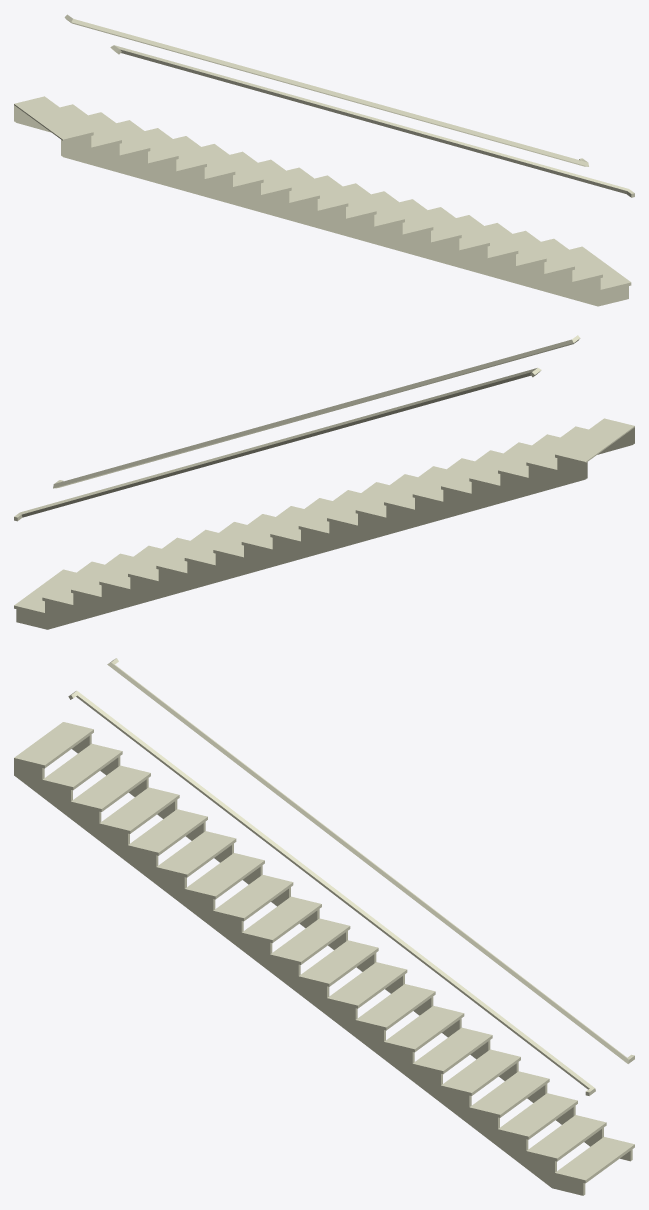
3 views of the same model, one above another, from view 1: azimuth 30°, elevation 25°; view 2: azimuth 150°, elevation 25°; view 3: azimuth 330°, elevation 25° (orthographic).
Visible parts, largest first — view 1: Model, Group1, Group2, G_6_12_step20, G_6_12_step1, G_6_12_step11, G_6_12_step18, G_6_12_step8, G_6_12_step5, G_6_12_step15, G_6_12_step12, G_6_12_step19 (+11 smaller); view 2: Model, Group2, Group1, G_6_12_step20, G_6_12_step6, G_6_12_step17, G_6_12_step2, G_6_12_step4, G_6_12_step7, G_6_12_step9, G_6_12_step15, G_6_12_step19 (+11 smaller); view 3: Model, Group1, Group2, G_6_12_step2, G_6_12_step10, G_6_12_step11, G_6_12_step13, G_6_12_step9, G_6_12_step15, G_6_12_step1, G_6_12_step3, G_6_12_step4 (+11 smaller).
Boxes of the visible parts, x1=… form: Model: x1=14, y1=105, x2=628, y2=306; Group1: x1=110, y1=45, x2=634, y2=197; Group2: x1=64, y1=14, x2=588, y2=166; G_6_12_step20: x1=14, y1=96, x2=93, y2=140; G_6_12_step1: x1=569, y1=246, x2=631, y2=290; G_6_12_step11: x1=286, y1=167, x2=348, y2=211; G_6_12_step18: x1=88, y1=112, x2=150, y2=156; G_6_12_step8: x1=371, y1=191, x2=433, y2=235; G_6_12_step5: x1=456, y1=215, x2=518, y2=259; G_6_12_step15: x1=173, y1=136, x2=235, y2=180; G_6_12_step12: x1=258, y1=159, x2=319, y2=203; G_6_12_step19: x1=60, y1=104, x2=121, y2=148; Model: x1=16, y1=427, x2=634, y2=629; Group2: x1=14, y1=368, x2=541, y2=521; Group1: x1=53, y1=335, x2=580, y2=488; G_6_12_step20: x1=555, y1=418, x2=634, y2=462; G_6_12_step6: x1=156, y1=529, x2=218, y2=574; G_6_12_step17: x1=469, y1=442, x2=531, y2=486; G_6_12_step2: x1=42, y1=561, x2=104, y2=605; G_6_12_step4: x1=99, y1=545, x2=161, y2=590; G_6_12_step7: x1=184, y1=522, x2=246, y2=566; G_6_12_step9: x1=241, y1=506, x2=303, y2=550; G_6_12_step15: x1=412, y1=458, x2=474, y2=502; G_6_12_step19: x1=526, y1=426, x2=588, y2=470; Model: x1=14, y1=734, x2=632, y2=1195; Group1: x1=68, y1=691, x2=595, y2=1095; Group2: x1=107, y1=658, x2=634, y2=1063; G_6_12_step2: x1=526, y1=1115, x2=606, y2=1161; G_6_12_step10: x1=298, y1=940, x2=378, y2=986; G_6_12_step11: x1=270, y1=918, x2=350, y2=964; G_6_12_step13: x1=213, y1=874, x2=293, y2=921; G_6_12_step9: x1=327, y1=962, x2=407, y2=1008; G_6_12_step15: x1=156, y1=831, x2=236, y2=877; G_6_12_step1: x1=555, y1=1137, x2=634, y2=1183; G_6_12_step3: x1=498, y1=1093, x2=577, y2=1139; G_6_12_step4: x1=469, y1=1071, x2=549, y2=1117.
Bounding box in the file's own units: 242 × 151 × 36.
